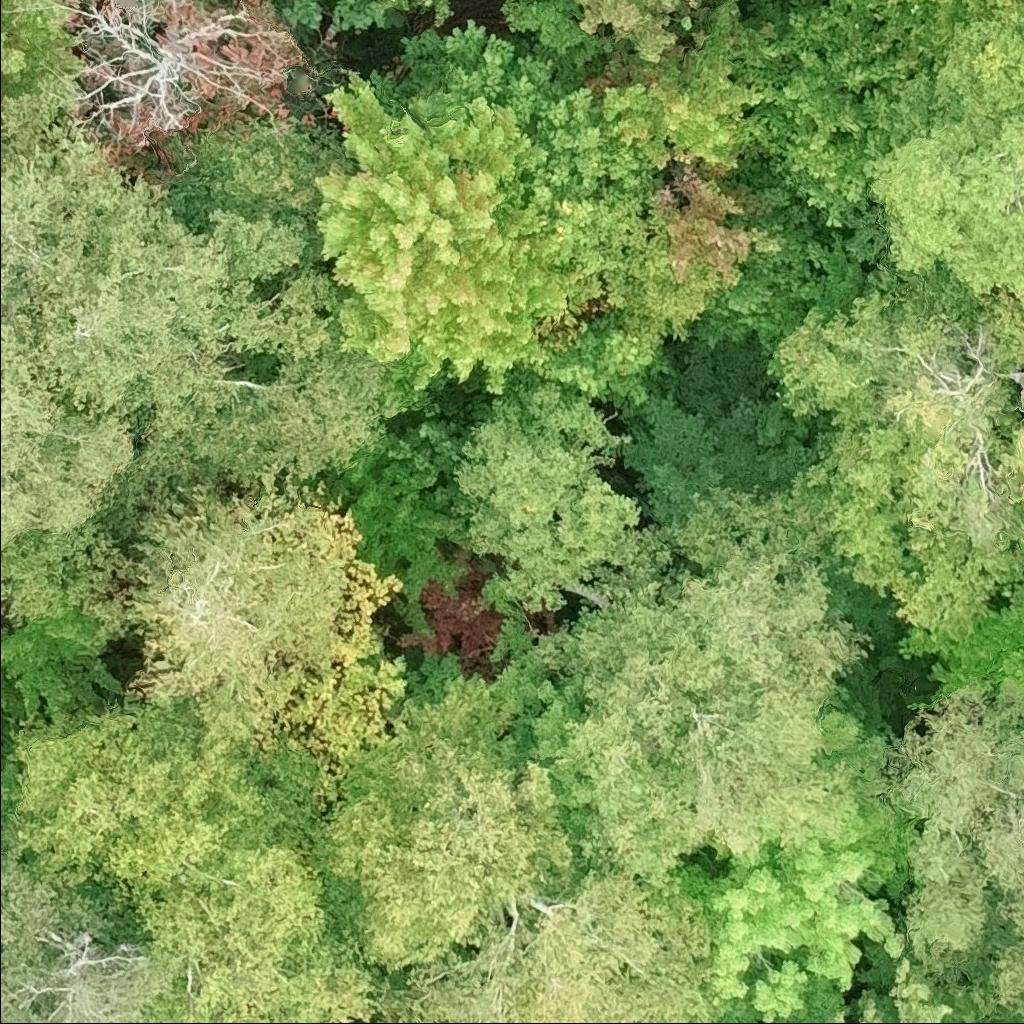crown: (531, 469, 892, 882), (14, 164, 394, 543), (761, 259, 1023, 643), (308, 67, 588, 390), (312, 679, 584, 976), (0, 696, 326, 906), (120, 464, 345, 758), (129, 797, 381, 1023), (667, 794, 914, 1023), (373, 864, 715, 1023), (860, 0, 1023, 305), (883, 679, 1023, 1017), (449, 367, 642, 612), (747, 0, 932, 230), (586, 0, 792, 170), (0, 320, 140, 548), (325, 424, 474, 636), (690, 152, 828, 358), (0, 90, 108, 327), (0, 853, 148, 1023), (499, 159, 667, 305), (395, 18, 568, 135), (499, 0, 710, 90), (168, 122, 359, 218), (648, 162, 786, 292), (0, 610, 124, 744), (530, 79, 661, 199), (812, 955, 1023, 1023), (897, 588, 1023, 700), (545, 316, 671, 412), (867, 0, 1018, 78), (0, 0, 92, 123), (381, 415, 473, 521), (278, 0, 406, 34), (978, 290, 1023, 373), (1005, 424, 1023, 581), (384, 0, 461, 29), (682, 0, 709, 10), (1017, 388, 1023, 409), (500, 0, 522, 3)
